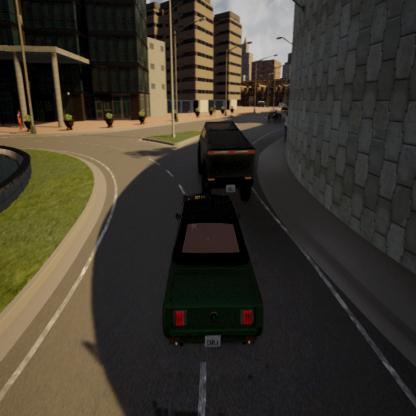Cars: (163, 196, 265, 347), (197, 118, 256, 201), (268, 108, 280, 123)
Pedestrian: (282, 110, 291, 146), (16, 108, 24, 134)
